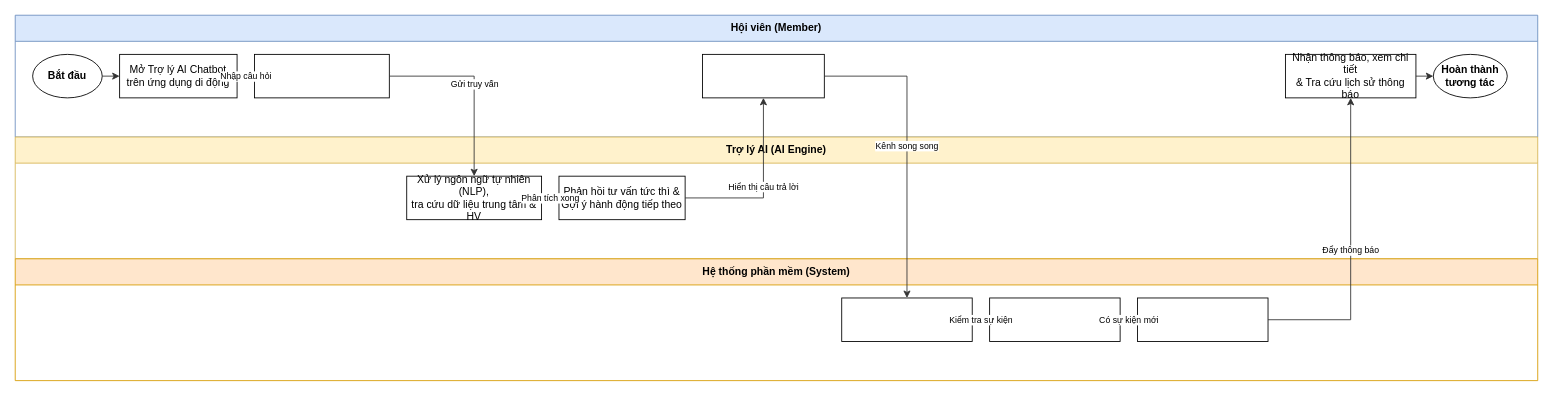
The diagram is 1553 pixels wide and 396 high, and some of its shapes have lost their labels. The centre of each missing label's shape, as x and y in pixels:
Gửi câu hỏi về lịch tập, kỹ thuật, dinh dưỡng, gói dịch vụ: pixel 321 76
Hệ thống giám sát sự kiện thời gian thực nền (background): pixel 906 319
Nhận câu trả lời & Đánh giá chất lượng tư vấn: pixel 763 76
Phát hiện: Đổi lịch/HLV, Hạn gói (<7 ngày), Nhắc giờ tập?: pixel 1054 319
Tự động gửi thông báo chủ động (Push Notification / SMS / App): pixel 1202 319
